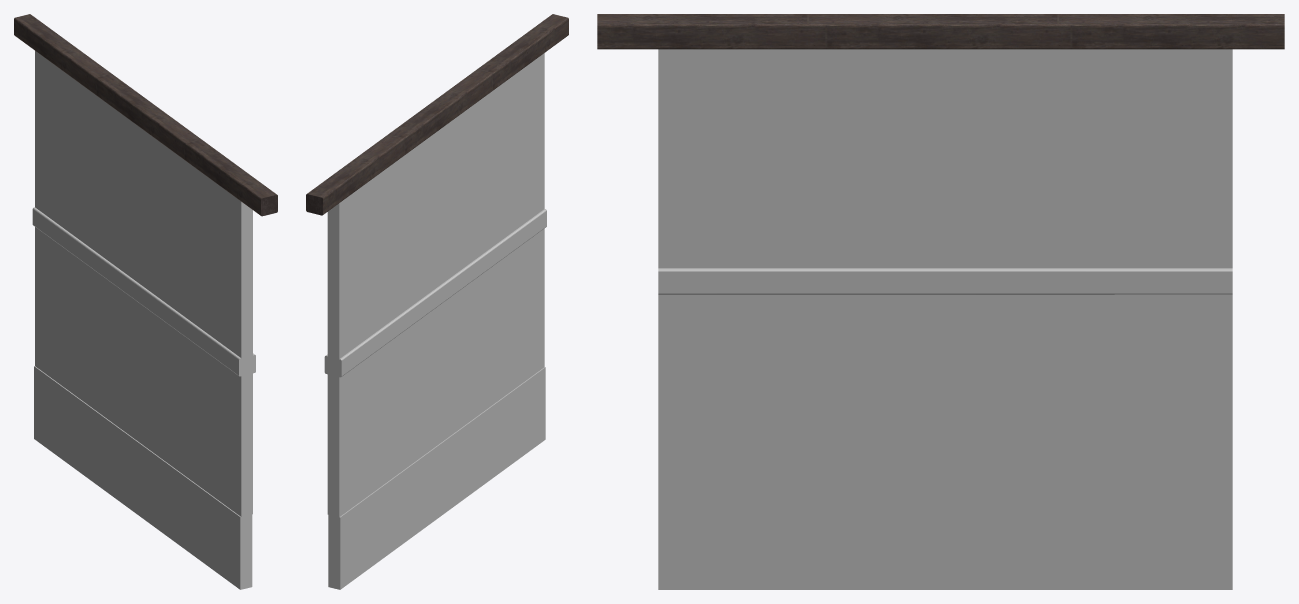
Rendered from SM_Building_Wall_8.FBX.
3 views of the same model, side by side, from view 1: azimuth 30°, elevation 25°; view 2: azimuth 150°, elevation 25°; view 3: azimuth 270°, elevation 25° (orthographic). The views are drawn at different scales.
Parts seen in each view (by area): view 1: SM_Building_Wall_8; view 2: SM_Building_Wall_8; view 3: SM_Building_Wall_8.
Boxes of the visible parts, x1=… form: SM_Building_Wall_8: x1=14, y1=14, x2=277, y2=589; SM_Building_Wall_8: x1=306, y1=14, x2=568, y2=589; SM_Building_Wall_8: x1=597, y1=14, x2=1284, y2=589.
Size of the model in its own units: 24.22 by 556 by 610.
